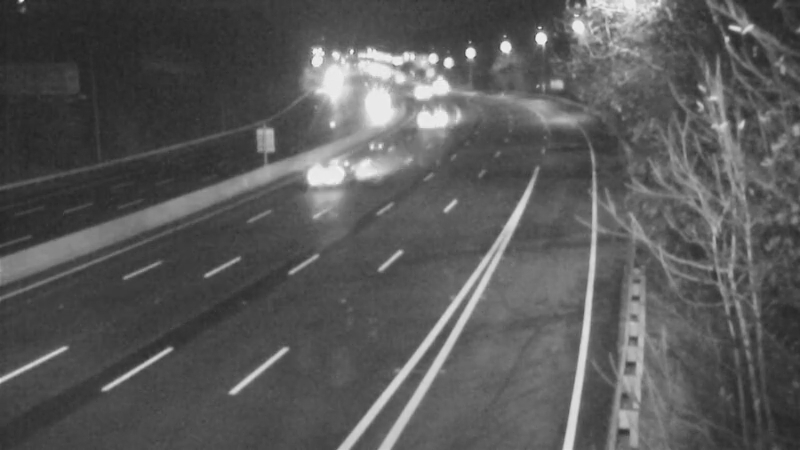vehicle: (294, 130, 374, 210), (419, 60, 469, 110), (396, 67, 446, 117), (412, 91, 462, 141), (350, 82, 400, 132)
